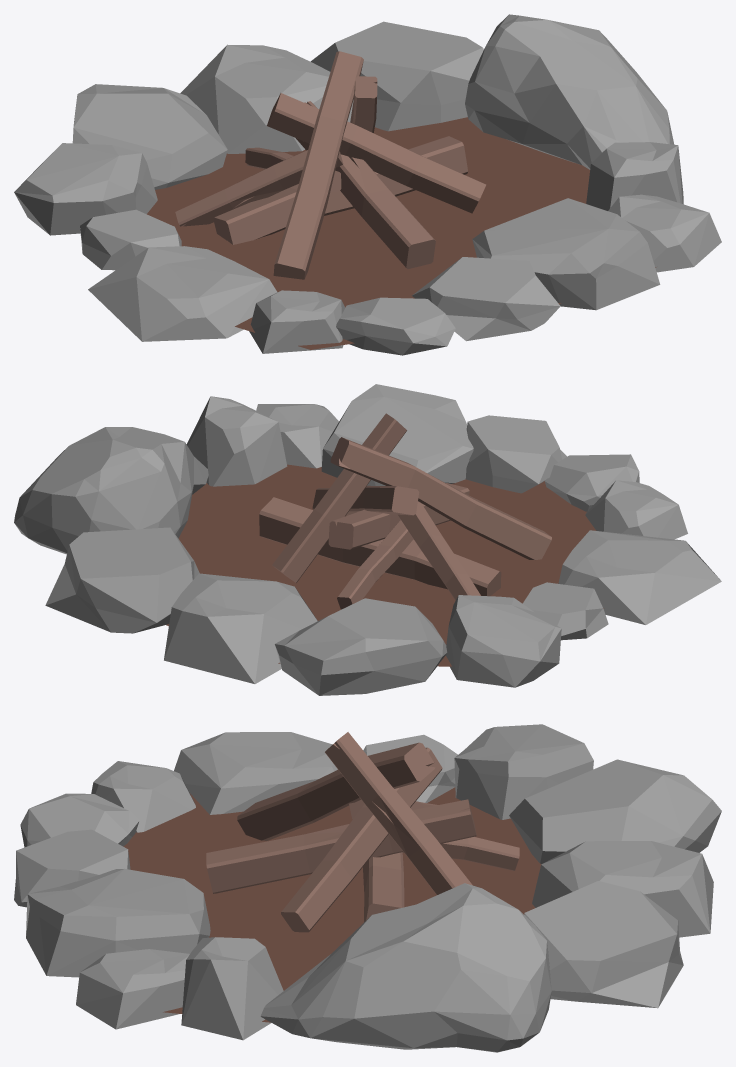
The model's file is camp_fire.fbx.
3 renders of one model, top to bottom at view 1: azimuth 30°, elevation 25°; view 2: azimuth 150°, elevation 25°; view 3: azimuth 270°, elevation 25°, orthographic. The views are drawn at different scales.
Parts seen in each view (by area): view 1: camp_fire; view 2: camp_fire; view 3: camp_fire.
Part boxes in pixels (x1,y1,x2,y2): camp_fire: (14, 14, 721, 355); camp_fire: (14, 384, 721, 695); camp_fire: (14, 724, 721, 1052).
Size of the model in its own units: 87.88 by 21.48 by 82.22.
